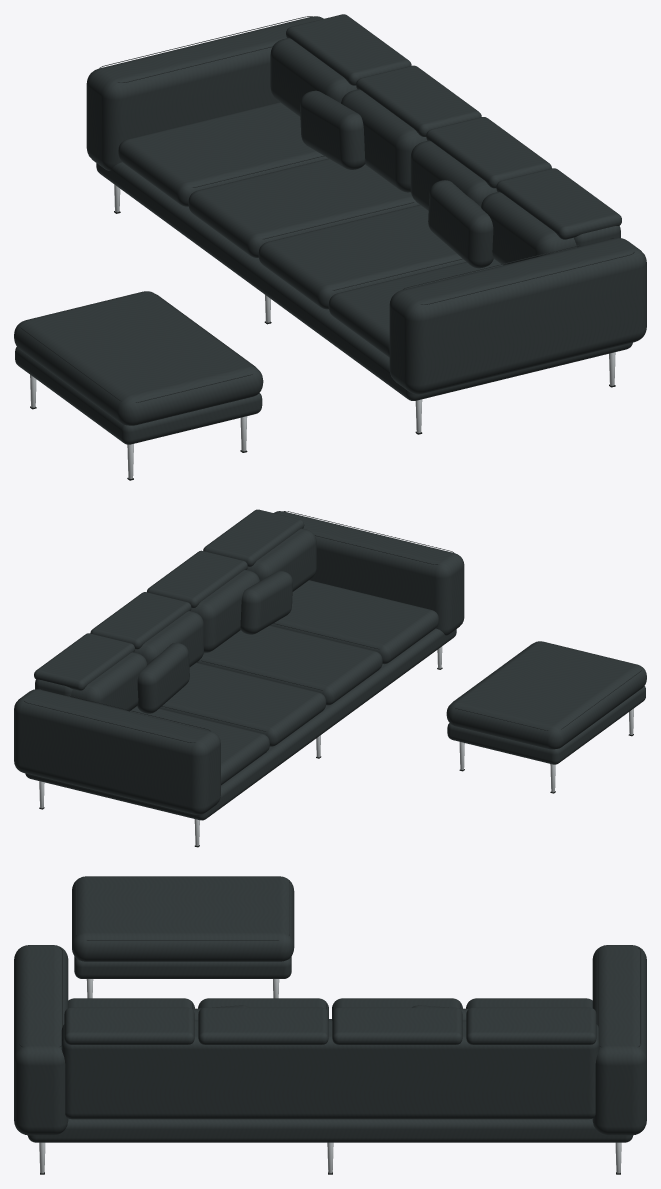
The model's file is living-furniture.glb.
3 renders of one model, top to bottom at view 1: azimuth 30°, elevation 25°; view 2: azimuth 150°, elevation 25°; view 3: azimuth 270°, elevation 25°, orthographic. The views are drawn at different scales.
Parts seen in each view (by area): view 1: Sofa arm 1, Stool seat cushion, Sofa arm -1, Seat cushion 2, Seat cushion 1, Seat cushion 3, Sofa upholstered lower frame, Folded headrest 4, Folded headrest 2, Folded headrest 3, Folded headrest 1, Stool lower upholstery (+7 smaller); view 2: Sofa arm -1, Stool seat cushion, Sofa arm 1, Seat cushion 3, Seat cushion 4, Seat cushion 2, Sofa upholstered lower frame, Folded headrest 1, Folded headrest 2, Folded headrest 4, Folded headrest 3, Stool lower upholstery (+7 smaller); view 3: Sofa rear panel, Stool seat cushion, Sofa upholstered lower frame, Sofa arm -1, Sofa arm 1, Folded headrest 1, Folded headrest 4, Folded headrest 2, Folded headrest 3, Stool lower upholstery, Seat cushion 1, Seat cushion 4 (+2 smaller).
Part boxes in pixels (<box>): Sofa arm 1: <box>389,238,646,394</box>; Stool seat cushion: <box>14,291,263,425</box>; Sofa arm -1: <box>86,16,323,170</box>; Seat cushion 2: <box>188,158,419,257</box>; Seat cushion 1: <box>118,102,328,206</box>; Seat cushion 3: <box>258,205,465,309</box>; Sofa upholstered lower frame: <box>96,162,632,400</box>; Folded headrest 4: <box>496,168,621,239</box>; Folded headrest 2: <box>356,65,481,136</box>; Folded headrest 3: <box>426,117,551,188</box>; Folded headrest 1: <box>286,14,411,85</box>; Stool lower upholstery: <box>15,347,262,444</box>; Sofa arm -1: <box>14,689,220,814</box>; Stool seat cushion: <box>446,641,646,749</box>; Sofa arm 1: <box>274,511,464,635</box>; Seat cushion 3: <box>197,625,382,705</box>; Seat cushion 4: <box>270,580,438,664</box>; Seat cushion 2: <box>159,662,326,746</box>; Sofa upholstered lower frame: <box>25,628,456,820</box>; Folded headrest 1: <box>34,633,134,690</box>; Folded headrest 2: <box>90,592,191,649</box>; Folded headrest 4: <box>203,509,304,566</box>; Folded headrest 3: <box>147,550,247,607</box>; Stool lower upholstery: <box>447,686,645,764</box>; Sofa rear panel: <box>61,1020,599,1119</box>; Stool seat cushion: <box>72,876,294,961</box>; Sofa upholstered lower frame: <box>27,1019,632,1142</box>; Sofa arm -1: <box>592,945,646,1135</box>; Sofa arm 1: <box>14,945,68,1135</box>; Folded headrest 1: <box>466,1007,596,1044</box>; Folded headrest 4: <box>64,1007,194,1044</box>; Folded headrest 2: <box>332,1007,462,1044</box>; Folded headrest 3: <box>198,1007,328,1044</box>; Stool lower upholstery: <box>74,956,291,978</box>; Seat cushion 1: <box>466,998,592,1008</box>; Seat cushion 4: <box>68,998,194,1008</box>.
Size of the model in its own units: 2.42 by 0.73 by 2.79.
Materials: 5 (2 with a texture image).
